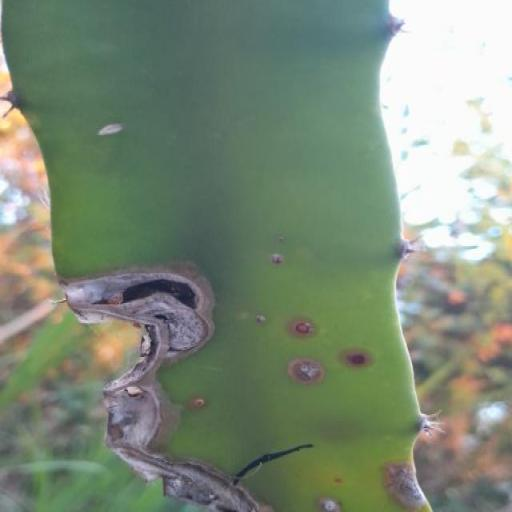stemcanker: (245, 204, 289, 338), (185, 377, 212, 428)
